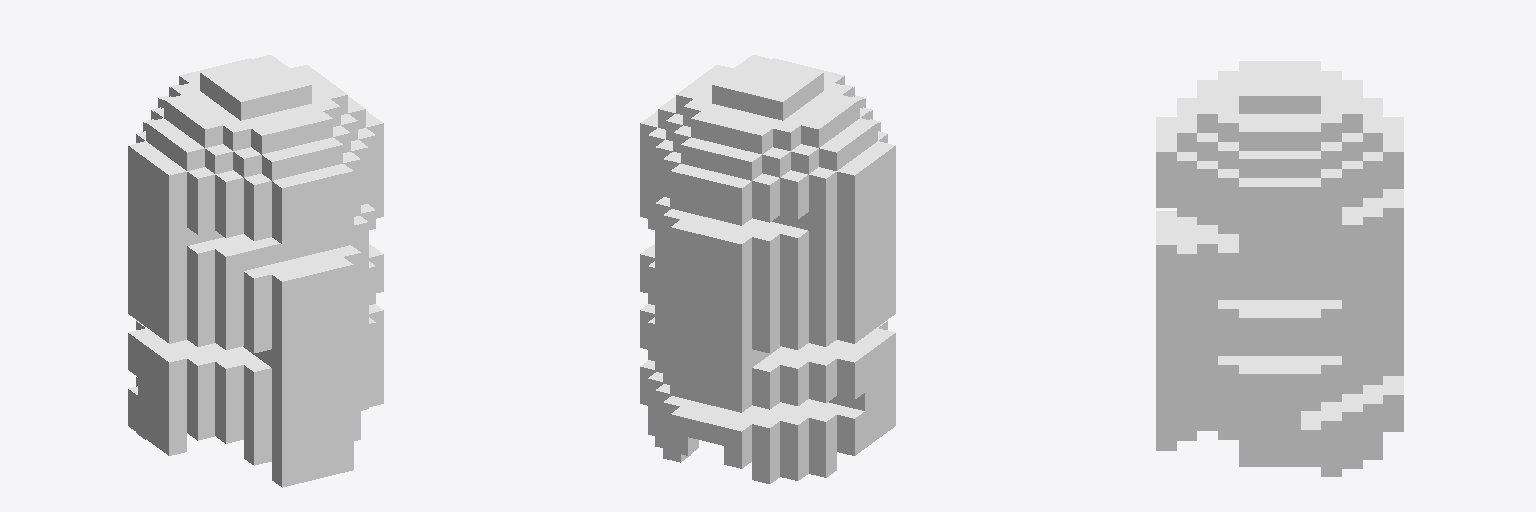
Rendered from BodyDamage.obj.
3 renders of one model, left to right at view 1: azimuth 30°, elevation 25°; view 2: azimuth 150°, elevation 25°; view 3: azimuth 270°, elevation 25°, orthographic.
Visible parts, largest first — view 1: object 1; view 2: object 1; view 3: object 1.
Boxes of the visible parts, x1,y1,x2,y2 form: object 1: [128, 55, 383, 487]; object 1: [640, 55, 895, 483]; object 1: [1156, 61, 1403, 476].
Size of the model in its own units: 1.2 by 1.9 by 1.2.